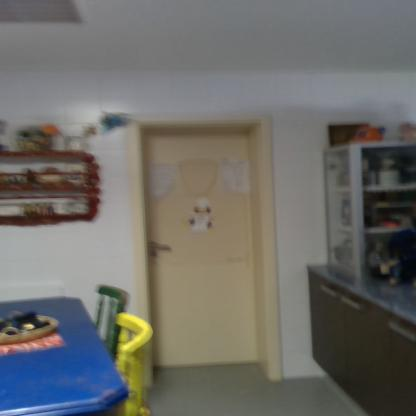door: (143, 135, 254, 373)
lever: (150, 242, 172, 250)
